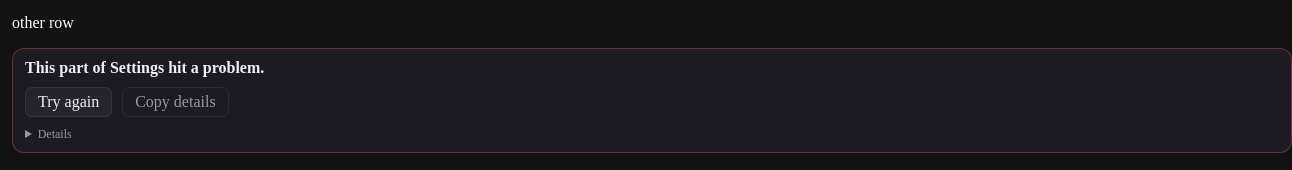
Test: ErrorBoundary › keeps the rest of the page when one panel throws, and retries
Step 1. Click the button "Try again" → coordinates (69, 102), box x1=25 y1=87 x2=112 y2=117
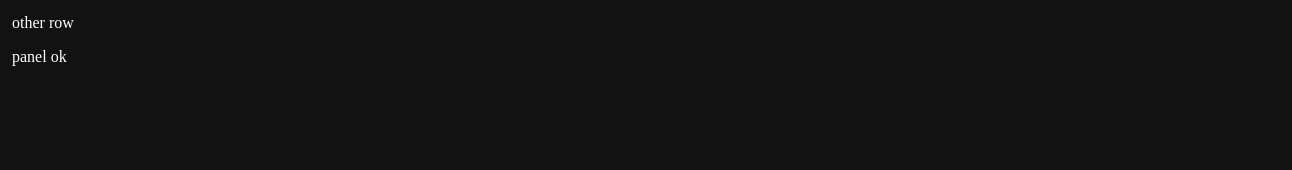
Now the text "panel ok" is shown, box x1=12 y1=48 x2=67 y2=65
Now the text "hit a problem" is gone
